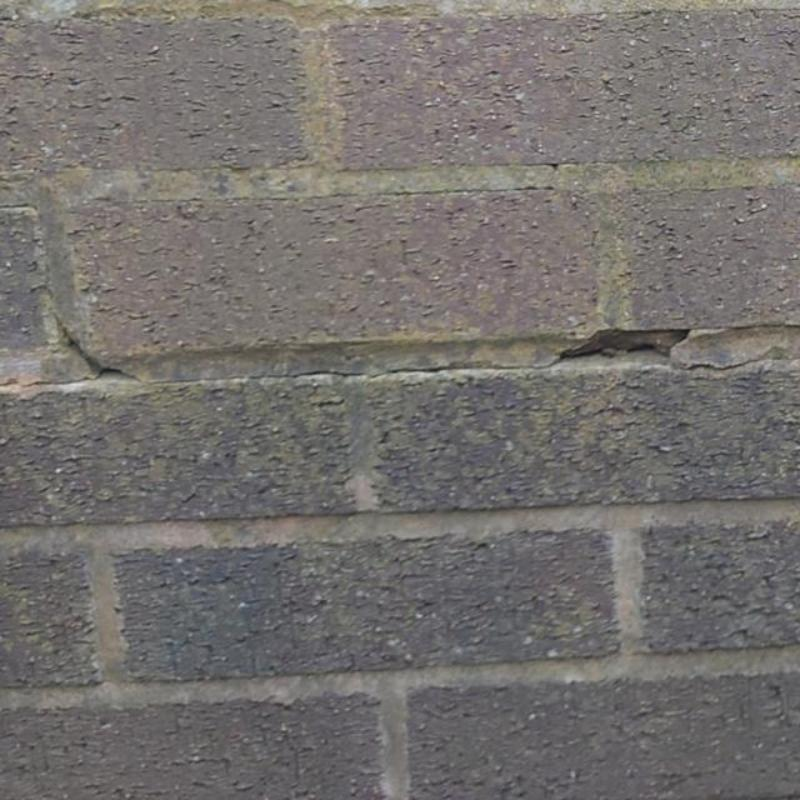crack: (0, 315, 774, 389)
